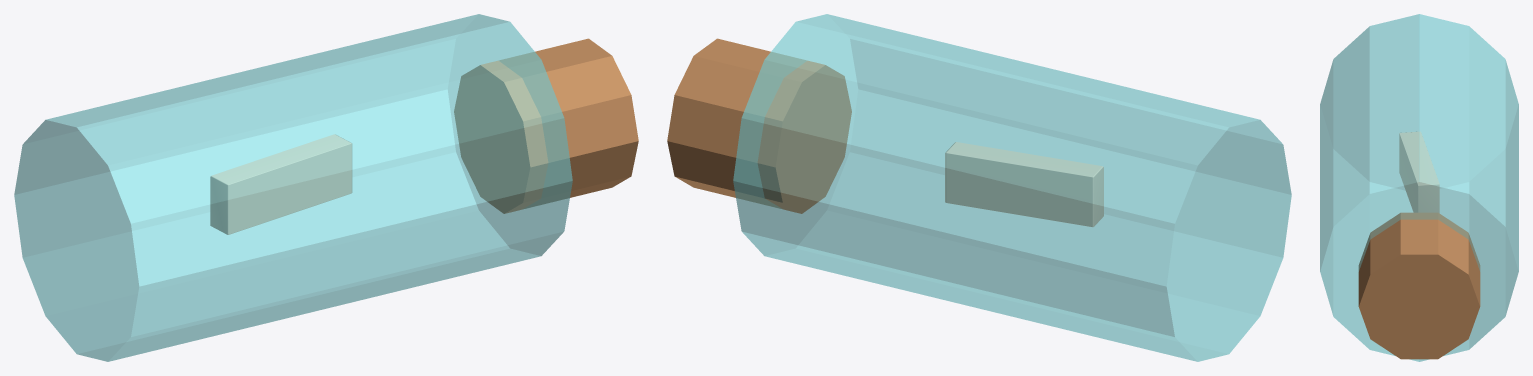
The model's file is message-bottle.glb.
3 renders of one model, left to right at view 1: azimuth 30°, elevation 25°; view 2: azimuth 150°, elevation 25°; view 3: azimuth 270°, elevation 25°, orthographic. The views are drawn at different scales.
Parts seen in each view (by area): view 1: bottle, cork, scroll; view 2: bottle, cork, scroll; view 3: bottle, cork, scroll.
Boxes of the visible parts, x1,y1,x2,y2 form: bottle: (14, 14, 572, 361); cork: (454, 38, 638, 213); scroll: (210, 134, 352, 234); bottle: (733, 14, 1291, 361); cork: (667, 38, 851, 213); scroll: (945, 142, 1103, 227); bottle: (1320, 14, 1518, 361); cork: (1358, 212, 1480, 359); scroll: (1399, 131, 1439, 212).
Bounding box in the file's own units: 0.87 × 0.36 × 0.36.
